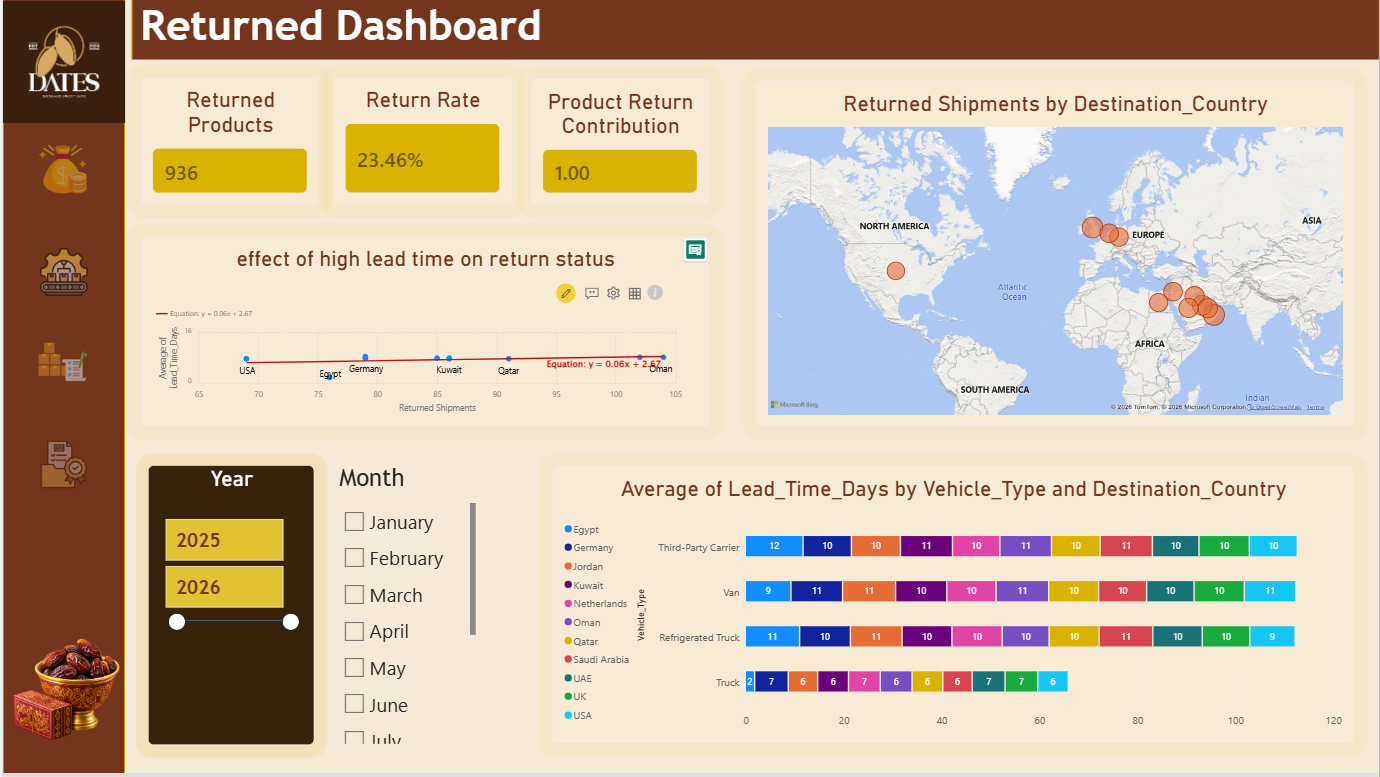

The page's visual inventory and layout, read from the dashboard file:
{"tool":"powerbi","page":{"name":"Returned ","canvas":[1920,1080],"ordinal":5},"visuals":[{"type":"shape","box":[0,0,170,1081],"z":0},{"type":"image","box":[0,1.7,170,171.7],"z":1000},{"type":"actionButton","box":[49,186.4,69,102],"z":2000},{"type":"actionButton","box":[50.7,329.4,69,102],"z":3000},{"type":"actionButton","box":[50.7,598,69,102],"z":4000},{"type":"actionButton","box":[49,455,69,102],"z":5000},{"type":"image","box":[11.5,842.4,150,235.7],"z":6000},{"type":"shape","box":[179,0,1741,85],"z":7000},{"type":"textbox","title":"Returned Dashboard","box":[192.7,1.7,741.7,116.7],"z":8000},{"type":"cardVisual","title":"Returned Products","fields":{"Data":["MyMeasures.ReturnProductCount"]},"box":[192,108,250,180],"z":9000},{"type":"cardVisual","title":"Return Rate","fields":{"Data":["MyMeasures.Return_rate"]},"box":[460,108,250,180],"z":10000},{"type":"cardVisual","title":"Product Return Contribution","fields":{"Data":["MyMeasures.Product Return Contribution"]},"box":[736,110,250,177.9],"z":11000},{"type":"map","fields":{"Category":["shipDim.Destination_Country"],"Size":["MyMeasures.Returned Shipments"]},"box":[1050,114,836,484],"z":12000},{"type":"performanceBubbleChartFBAAA829CB604E5CAB4F21729F233294","title":"effect of high lead time on return status","fields":{"category":["shipDim.Destination_Country"],"xmeasure":["MyMeasures.Returned Shipments"],"ymeasure":["Avg(FactTransaction.Lead_Time_Days)"]},"box":[192,330,794,268],"z":13000},{"type":"barChart","fields":{"Category":["shipDim.Vehicle_Type"],"Series":["shipDim.Destination_Country"],"Y":["Avg(FactTransaction.Lead_Time_Days)"]},"box":[766,650,1120,388],"z":14000},{"type":"slicer","title":"Year","fields":{"Values":["DateDim.Date.Variation.Date Hierarchy.Year"]},"box":[202,650,232,390],"z":15000},{"type":"slicer","title":"Month","fields":{"Values":["DateDim.Date.Variation.Date Hierarchy.Month"]},"box":[470,648,190,390],"z":16000}]}

Visuals, with their boxes on the page's 1920x1080 design canvas (x1, y1, x2, y2). These are canvas units, not pixel positions in the 1380x777 screenshot, which may show the page scaled, cropped or inside an application window:
shape: [0, 0, 170, 1081]
image: [0, 2, 170, 173]
actionButton: [49, 186, 118, 288]
actionButton: [51, 329, 120, 431]
actionButton: [51, 598, 120, 700]
actionButton: [49, 455, 118, 557]
image: [12, 842, 162, 1078]
shape: [179, 0, 1920, 85]
"Returned Dashboard" textbox: [193, 2, 934, 118]
"Returned Products" cardVisual: [192, 108, 442, 288]
"Return Rate" cardVisual: [460, 108, 710, 288]
"Product Return Contribution" cardVisual: [736, 110, 986, 288]
map - shipDim.Destination_Country x MyMeasures.Returned Shipments: [1050, 114, 1886, 598]
"effect of high lead time on return status" performanceBubbleChartFBAAA829CB604E5CAB4F21729F233294: [192, 330, 986, 598]
barChart - shipDim.Vehicle_Type x shipDim.Destination_Country: [766, 650, 1886, 1038]
"Year" slicer: [202, 650, 434, 1040]
"Month" slicer: [470, 648, 660, 1038]
